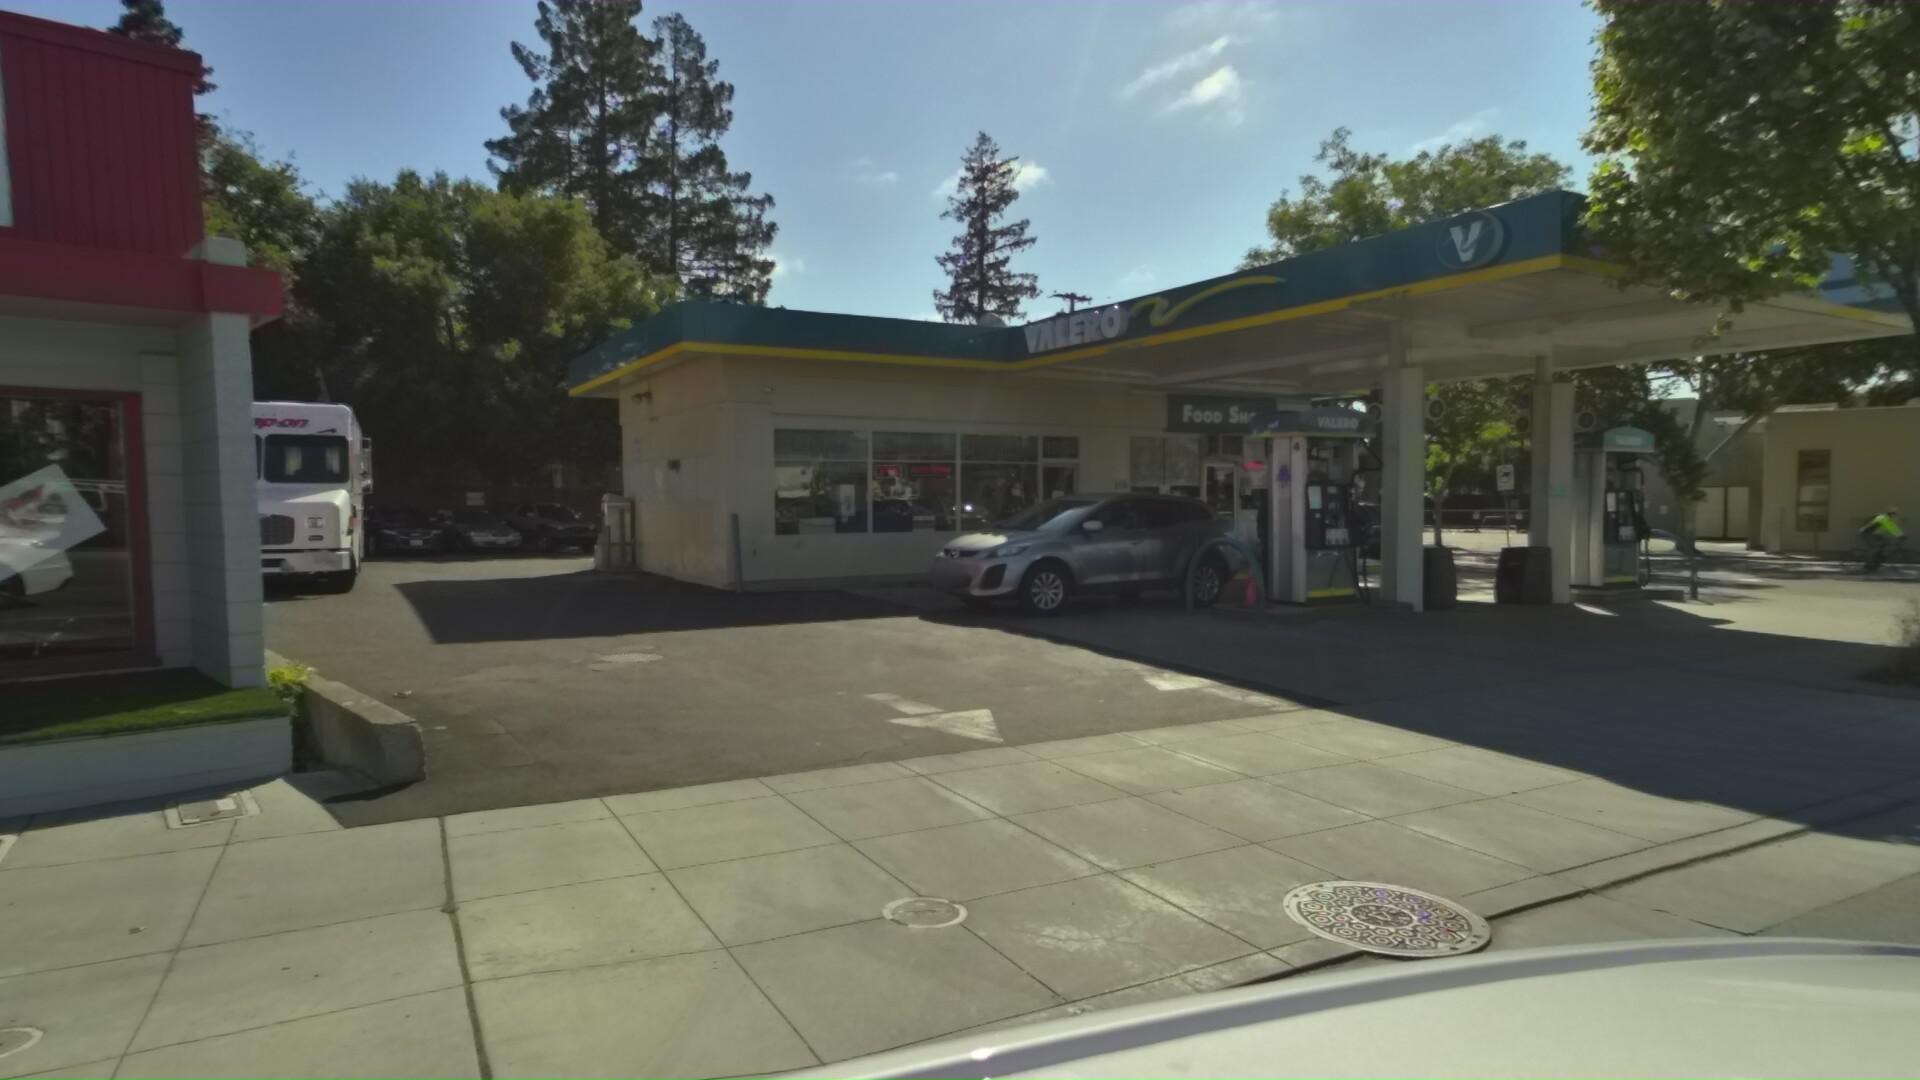bicycle: (1836, 493, 1920, 572)
car: (932, 483, 1279, 624), (1246, 495, 1422, 567), (865, 491, 986, 563), (352, 501, 467, 563), (429, 502, 545, 559), (510, 498, 615, 553)
truck: (174, 382, 404, 612)
